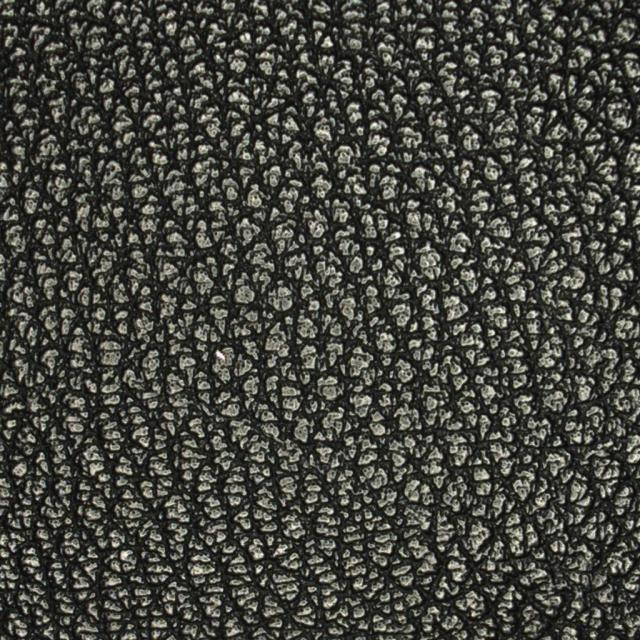pinhole: (40, 479, 204, 623), (242, 73, 420, 194)
